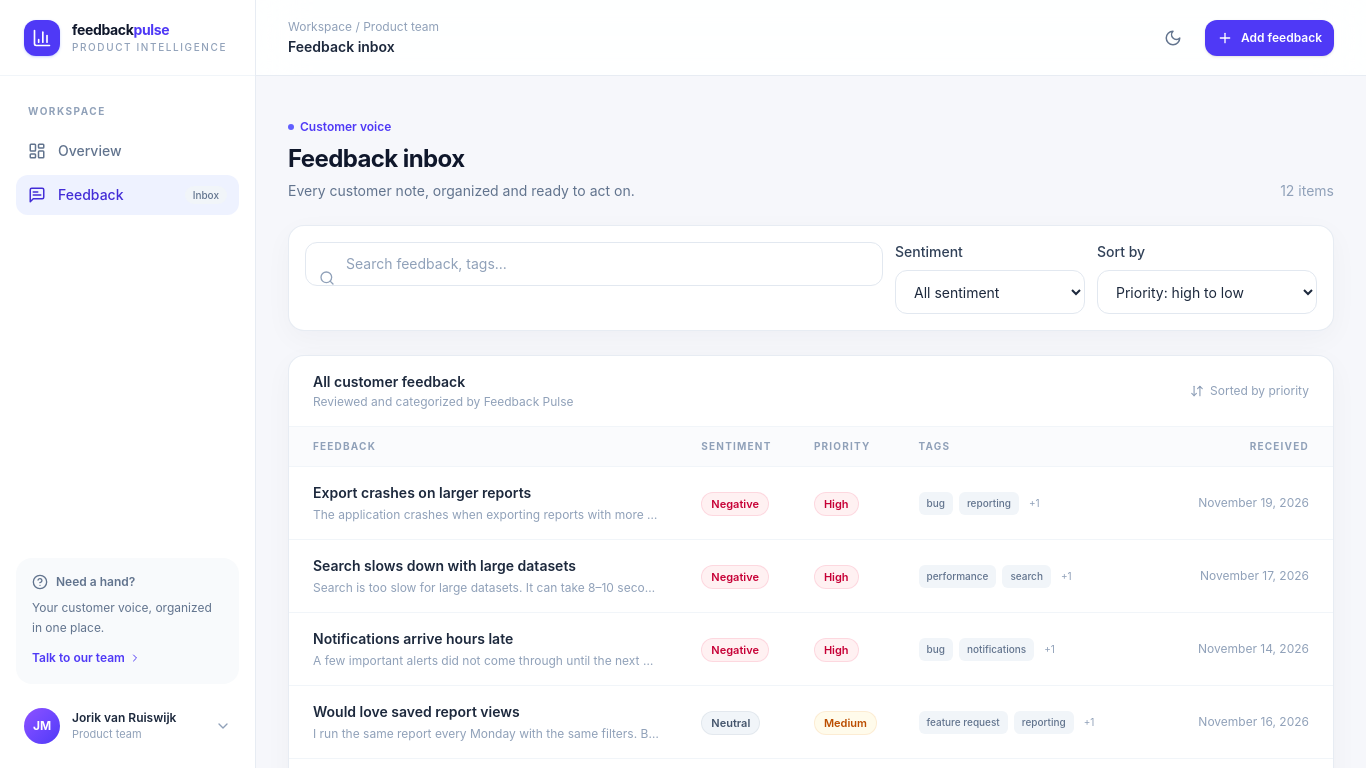
feedback inbox › sorts feedback by recency when requested
Expected: the link "Export crashes on larger reports" is shown, [313,484,531,501]
Select "Newest first" in the dropdown labelled "Sort by" at (1207, 292), box [1097,270,1317,314]
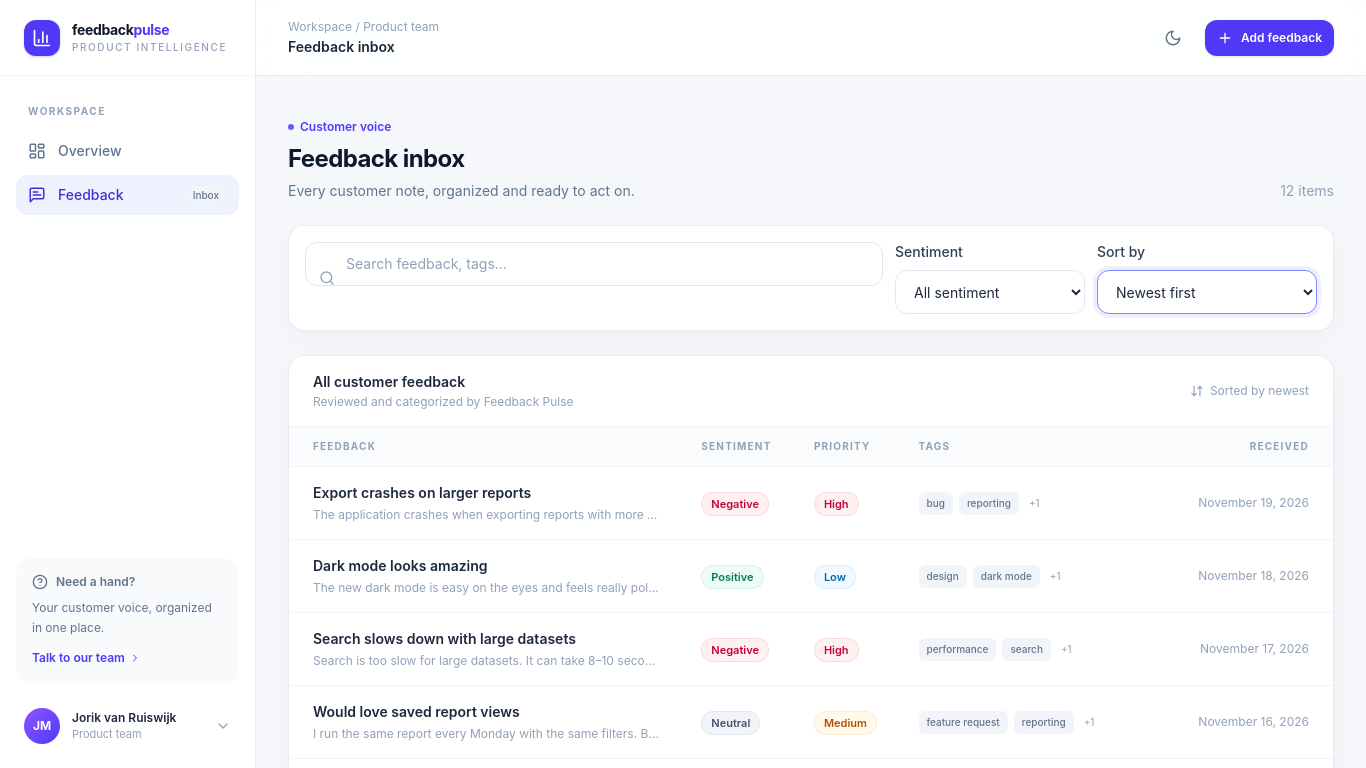
Expected: the link "Dark mode looks amazing" is shown, [313,557,488,574]
